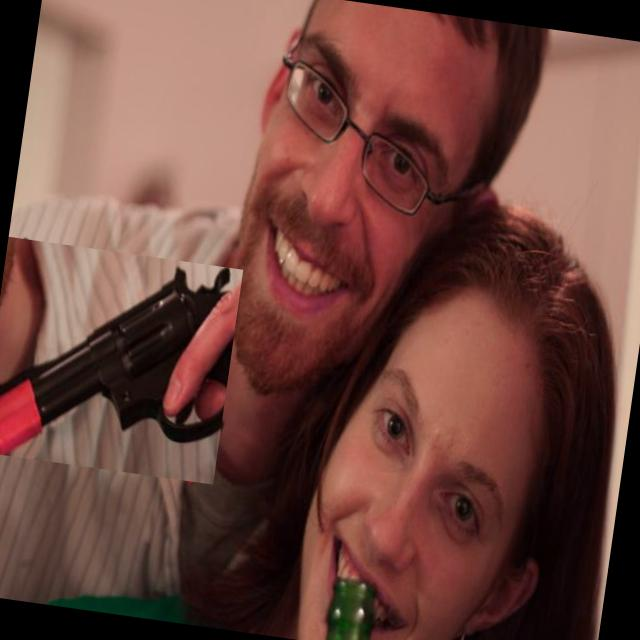Gun: (0, 268, 231, 455)
